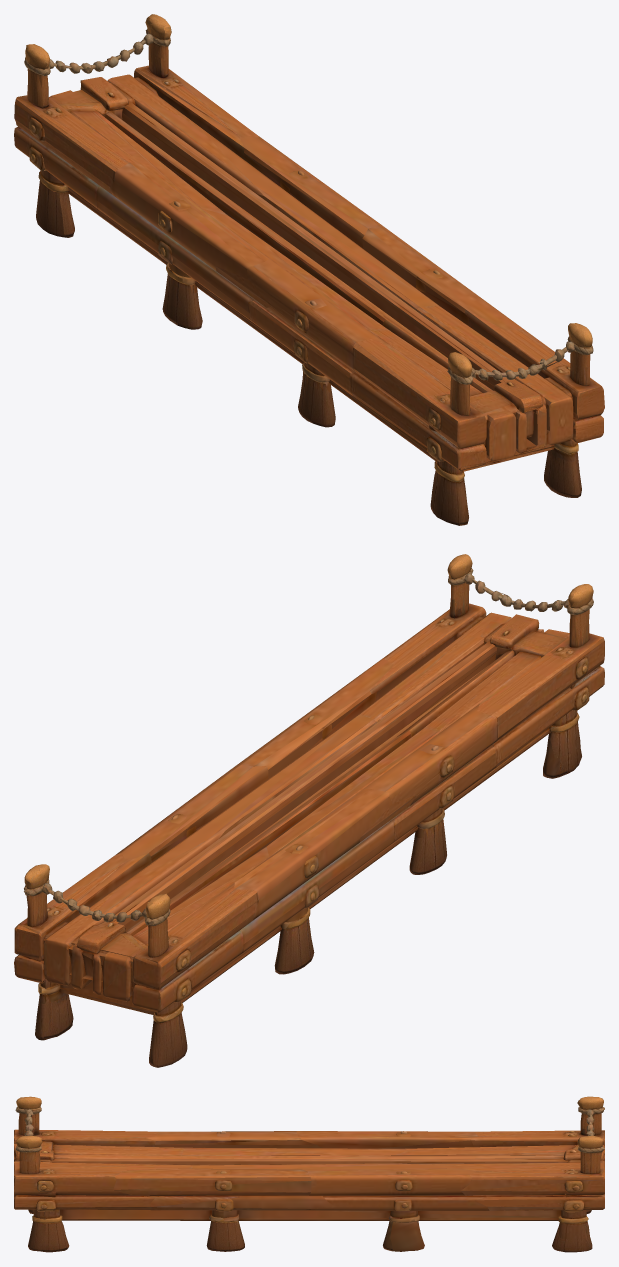
File: dock-row.glb
The picture shows the model from 3 angles, top to bottom: view 1: azimuth 30°, elevation 25°; view 2: azimuth 150°, elevation 25°; view 3: azimuth 270°, elevation 25°; orthographic projection. The views are drawn at different scales.
Visible parts, largest first — view 1: mesh_node; view 2: mesh_node; view 3: mesh_node.
Boxes of the visible parts, <box> form: mesh_node: <box>14,14,604,525</box>; mesh_node: <box>14,554,604,1067</box>; mesh_node: <box>14,1096,604,1252</box>.
Size of the model in its own units: 2 by 2.11 by 9.94.
1 material, 1 textured.
